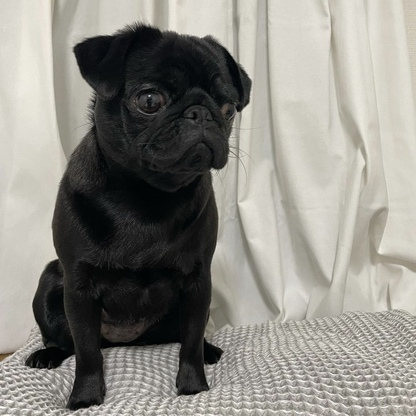Pug: (20, 17, 257, 412)
